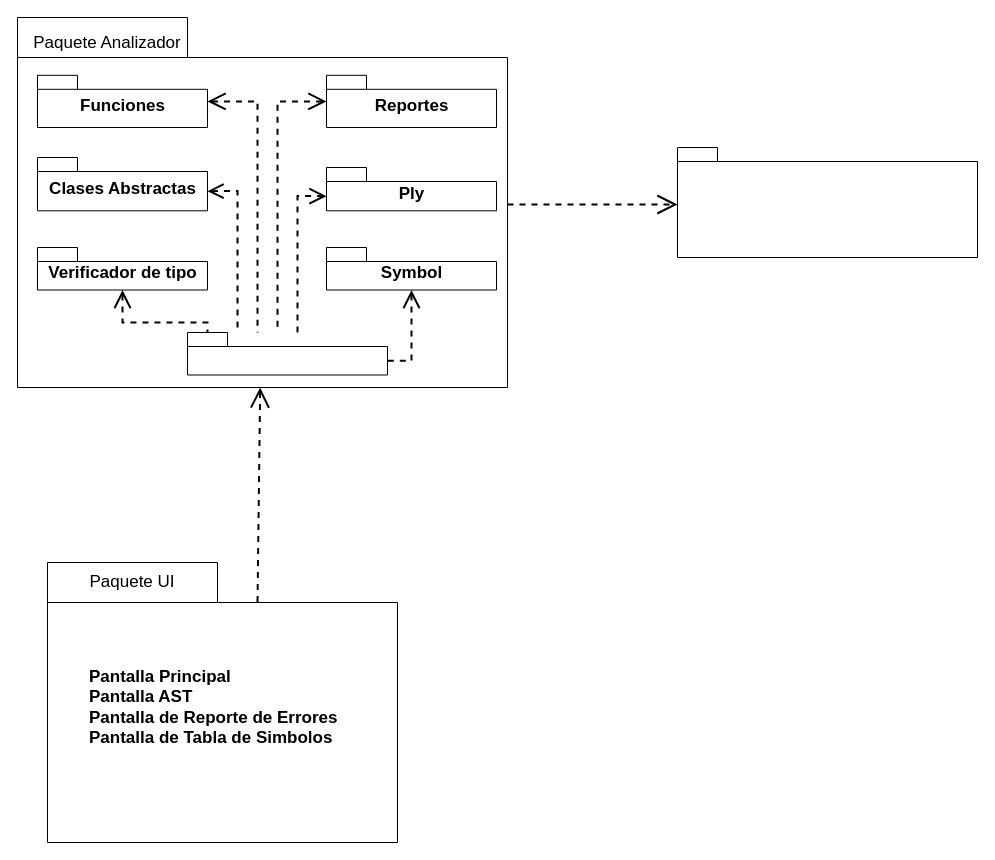
This 995x860 diagram has some shape labels left out. The centre of each missing label's shape, as x and y in pixels:
"Administrador de almacenamiento" goes at [827,202].
"Parser" goes at [287,353].
